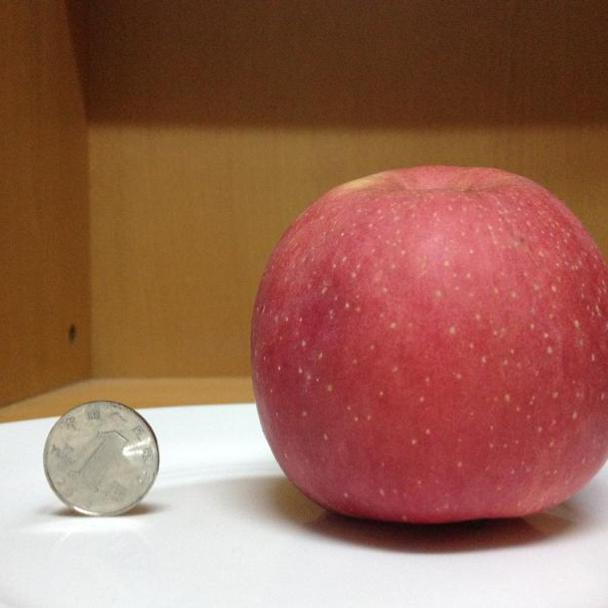apple: (248, 163, 608, 524)
